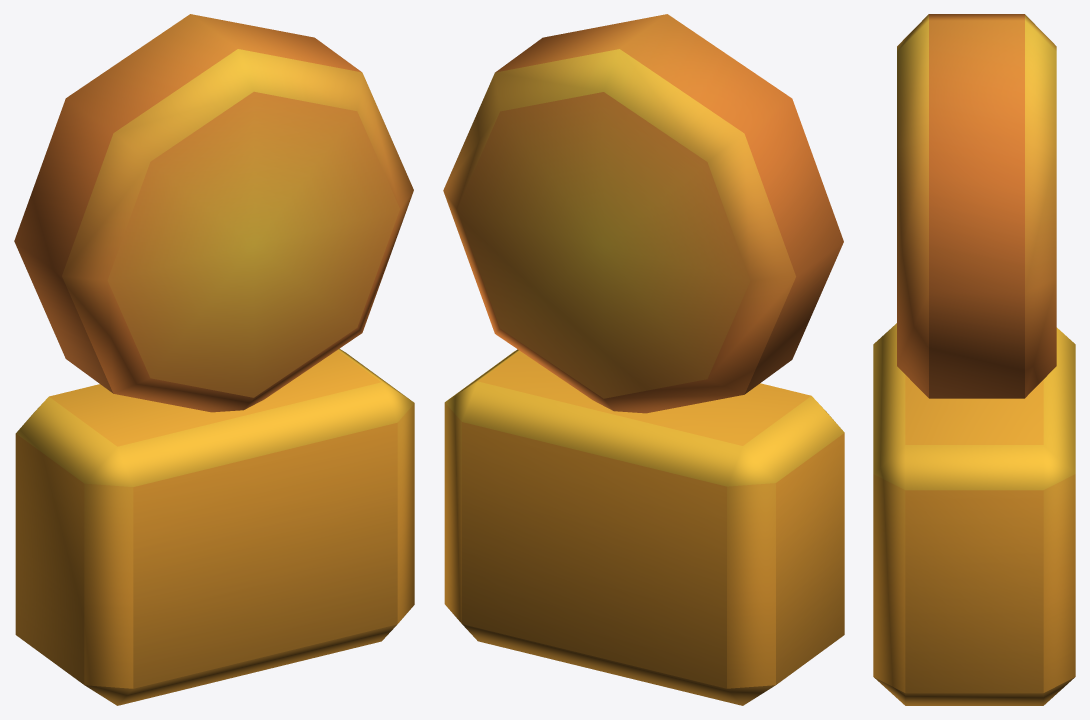
File: signal_lamp.fbx
3 views of the same model, side by side, from view 1: azimuth 30°, elevation 25°; view 2: azimuth 150°, elevation 25°; view 3: azimuth 270°, elevation 25° (orthographic).
Visible parts, largest first — view 1: signal_lamp; view 2: signal_lamp; view 3: signal_lamp.
Part boxes in pixels (left/top/right/bottom): signal_lamp: left=14, top=14, right=414, bottom=705; signal_lamp: left=443, top=14, right=844, bottom=705; signal_lamp: left=873, top=14, right=1075, bottom=705.
Bounding box in the file's own units: 51.18 × 85.59 × 25.26.
